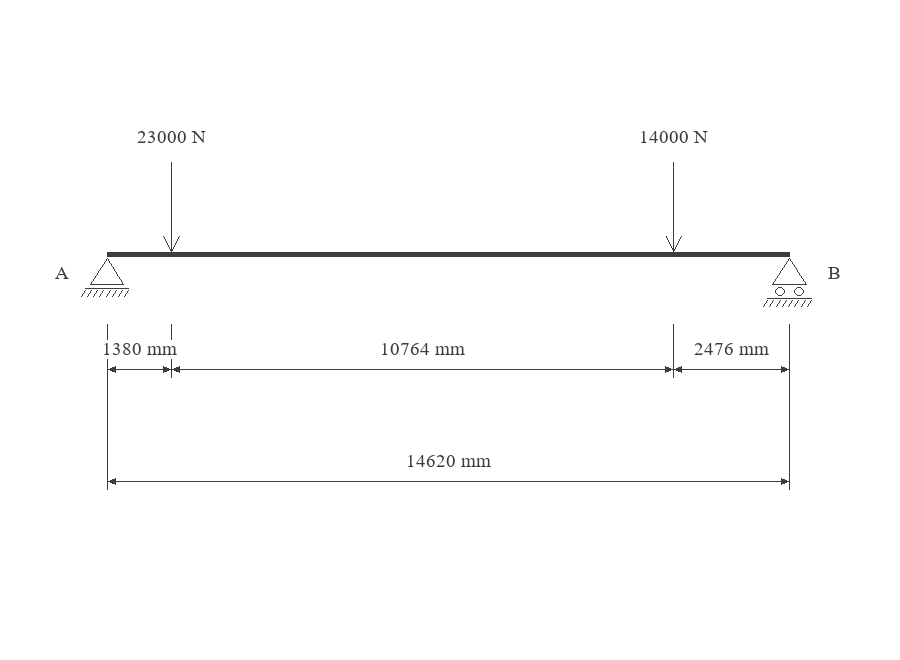pin_support: (81, 258, 129, 297)
point_load: (163, 162, 180, 252), (666, 162, 682, 252)
roller_support: (763, 258, 812, 307)
